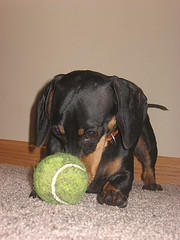tennis ball: (29, 149, 90, 207)
